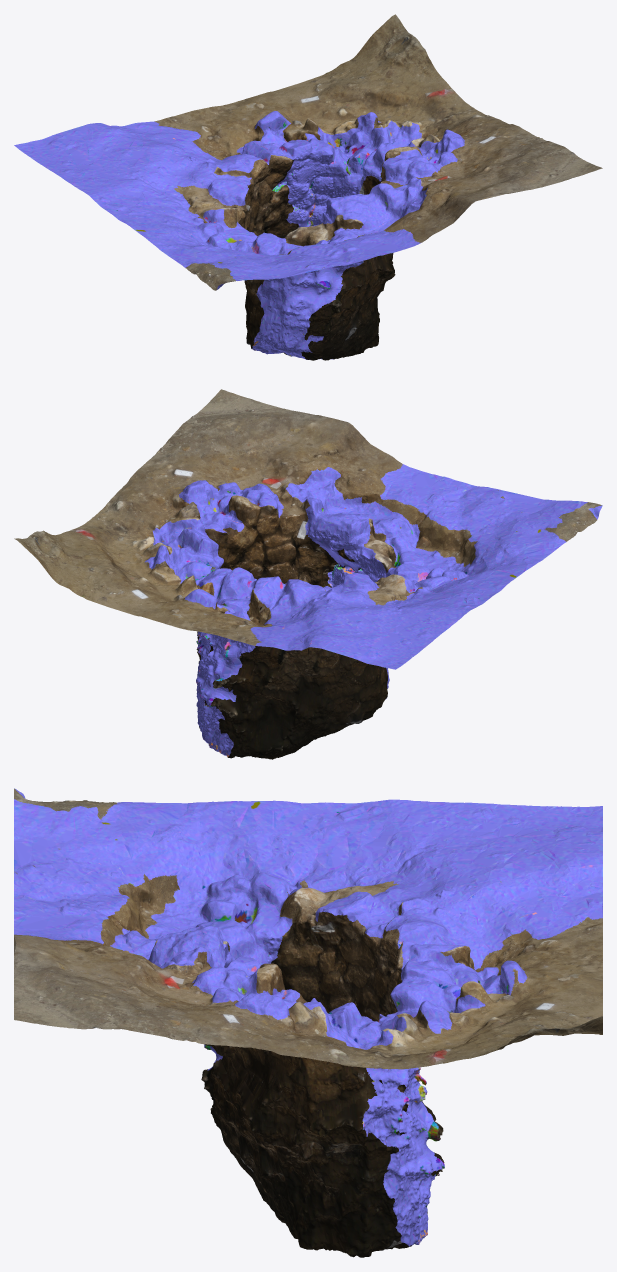
The model's file is Hole01.fbx.
3 renders of one model, top to bottom at view 1: azimuth 30°, elevation 25°; view 2: azimuth 150°, elevation 25°; view 3: azimuth 270°, elevation 25°, orthographic. The views are drawn at different scales.
Parts seen in each view (by area): view 1: LowPolyHole; view 2: LowPolyHole; view 3: LowPolyHole.
Part boxes in pixels (x1,y1,x2,y2): LowPolyHole: [14, 14, 602, 360]; LowPolyHole: [14, 389, 602, 759]; LowPolyHole: [14, 788, 602, 1257].
Size of the model in its own units: 389 by 230 by 366.
